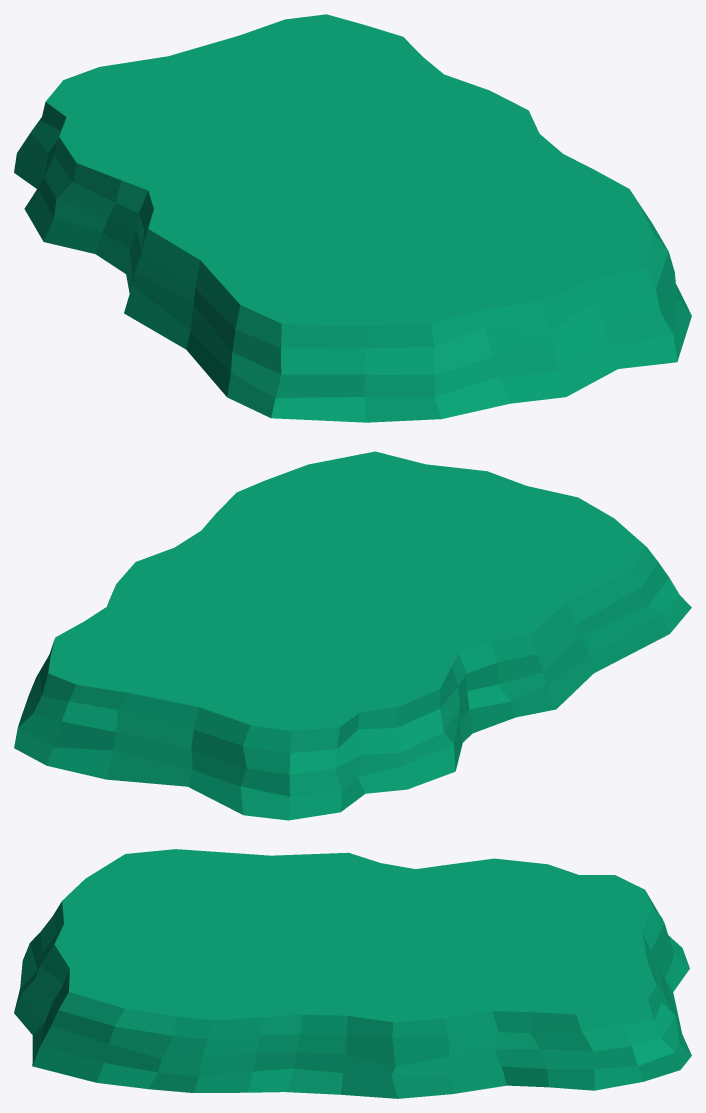
The model's file is generic_island2.glb.
3 views of the same model, one above another, from view 1: azimuth 30°, elevation 25°; view 2: azimuth 150°, elevation 25°; view 3: azimuth 270°, elevation 25° (orthographic). The views are drawn at different scales.
Parts seen in each view (by area): view 1: Plane; view 2: Plane; view 3: Plane.
Boxes of the visible parts, left/top/right/bottom form: Plane: left=14, top=14, right=691, bottom=422; Plane: left=14, top=451, right=691, bottom=820; Plane: left=14, top=849, right=691, bottom=1098.
Size of what is drawn, in the model's own units: 20.56 by 3.45 by 30.28.
